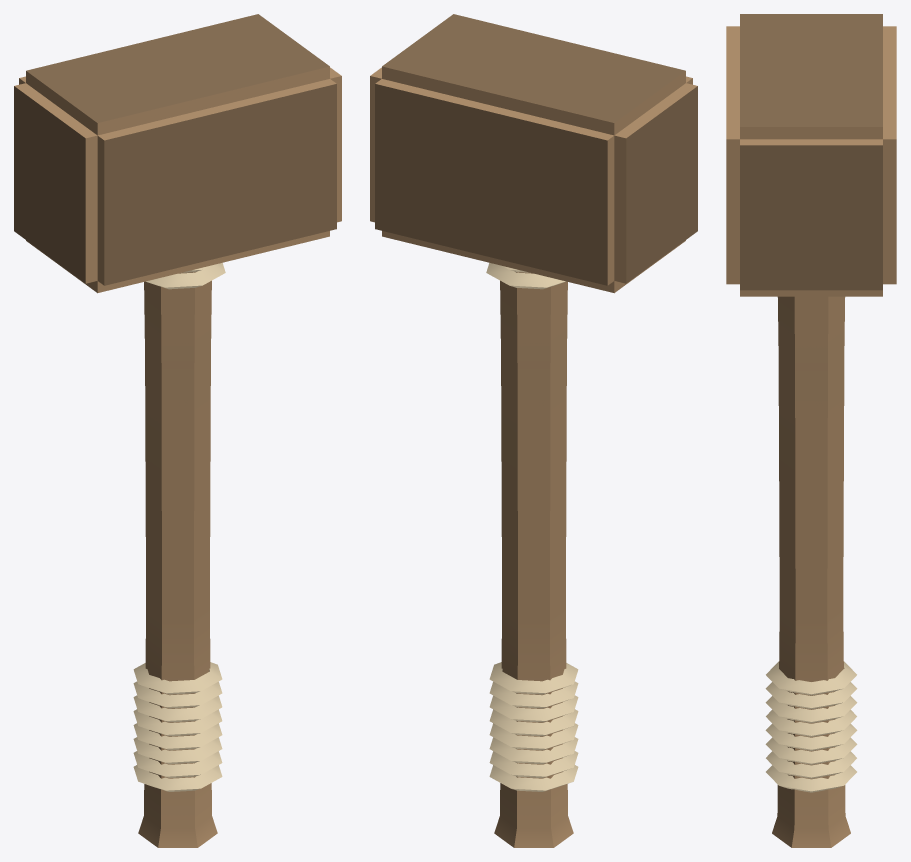
The model's file is WoodHammer.fbx.
The picture shows the model from 3 angles, left to right: view 1: azimuth 30°, elevation 25°; view 2: azimuth 150°, elevation 25°; view 3: azimuth 270°, elevation 25°; orthographic projection.
Visible parts, largest first — view 1: WoodHammer; view 2: WoodHammer; view 3: WoodHammer.
Boxes of the visible parts, box(x1,y1,x2,y2) form: WoodHammer: box(14, 14, 341, 847); WoodHammer: box(370, 14, 697, 847); WoodHammer: box(726, 14, 896, 847).
Bounding box in the file's own units: 0.26 × 0.742 × 0.15.
